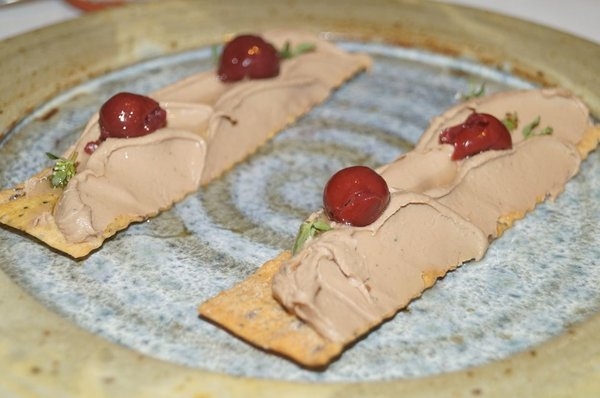pasta: (0, 31, 369, 264)
